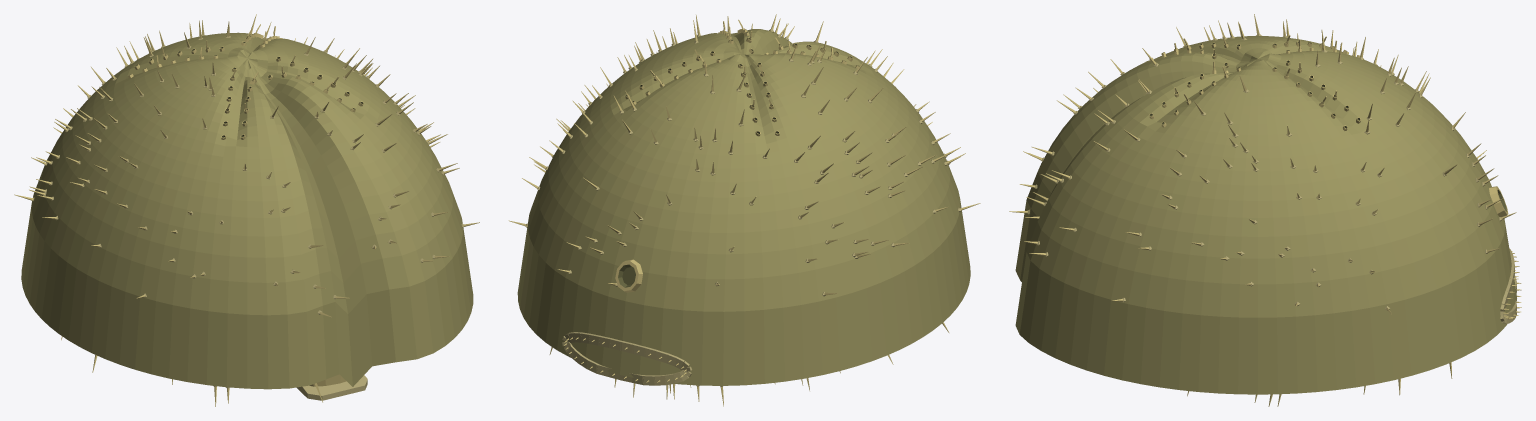
File: micraster.glb
3 renders of one model, left to right at view 1: azimuth 30°, elevation 25°; view 2: azimuth 150°, elevation 25°; view 3: azimuth 270°, elevation 25°, orthographic. The views are drawn at different scales.
Parts seen in each view (by area): view 1: micraster-original-volume; view 2: micraster-original-volume; view 3: micraster-original-volume.
Boxes of the visible parts, <box> form: micraster-original-volume: <box>14,14,479,406</box>; micraster-original-volume: <box>508,14,980,406</box>; micraster-original-volume: <box>1009,14,1521,406</box>.
Size of the model in its own units: 0.0443 by 0.0318 by 0.0494.
